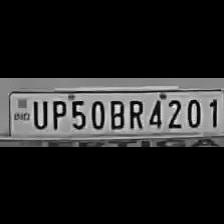0: (86, 95, 106, 129), (182, 94, 202, 128)
1: (204, 93, 222, 127)
2: (163, 94, 183, 128)
4: (145, 96, 163, 128)
5: (68, 96, 86, 130)
B: (108, 96, 126, 130)
P: (47, 96, 66, 130)
R: (124, 95, 144, 129)
U: (28, 95, 48, 129)
